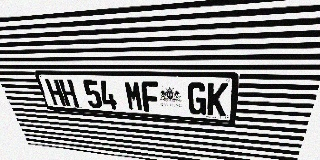4: (97, 80, 118, 110)
5: (82, 80, 103, 109)
F: (140, 81, 160, 112)
G: (187, 82, 207, 115)
H: (58, 79, 79, 107), (45, 79, 66, 106)
K: (207, 83, 228, 116)
M: (124, 81, 144, 111)
